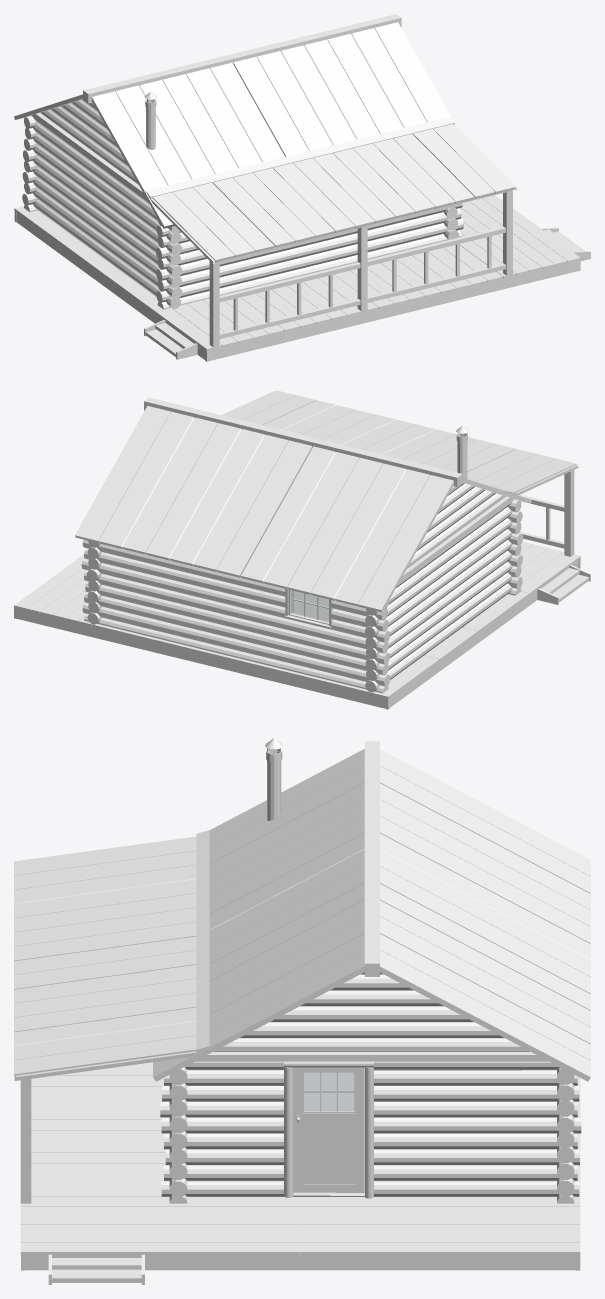
Rendered from Bld_Log_Cabin_02.glb.
3 renders of one model, top to bottom at view 1: azimuth 30°, elevation 25°; view 2: azimuth 150°, elevation 25°; view 3: azimuth 270°, elevation 25°, orthographic. The views are drawn at different scales.
Visible parts, largest first — view 1: Bld_Log_Cabin_02; view 2: Bld_Log_Cabin_02, (_ignore)_Bld_Log_Cabin_Windows_02; view 3: Bld_Log_Cabin_02, Bld_Log_Cabin_Door_02, (_ignore)_Bld_Log_Cabin_Door_Window_02.
Part boxes in pixels (x1,y1,x2,y2): Bld_Log_Cabin_02: (14, 14, 590, 361); Bld_Log_Cabin_02: (14, 390, 590, 709); (_ignore)_Bld_Log_Cabin_Windows_02: (291, 590, 328, 621); Bld_Log_Cabin_02: (14, 738, 590, 1284); Bld_Log_Cabin_Door_02: (293, 1067, 364, 1193); (_ignore)_Bld_Log_Cabin_Door_Window_02: (304, 1073, 353, 1111).
Bounding box in the file's own units: 9.66 × 4.43 × 8.02.
2 materials, 1 textured.
